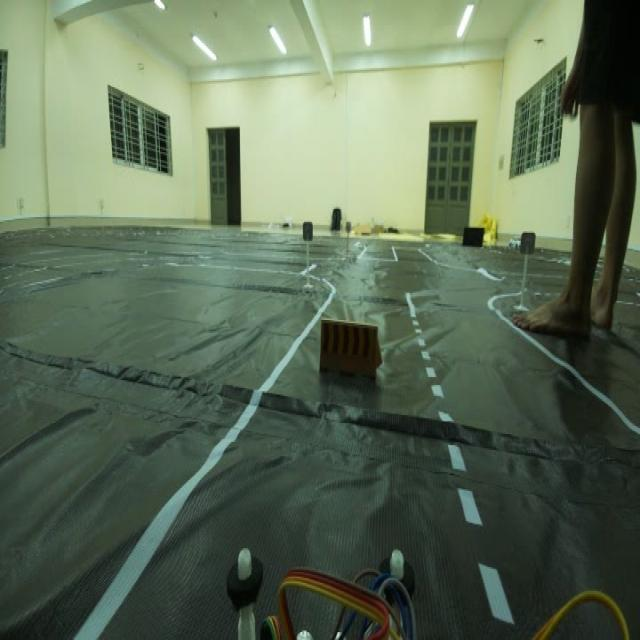roadblock: (316, 307, 383, 407)
